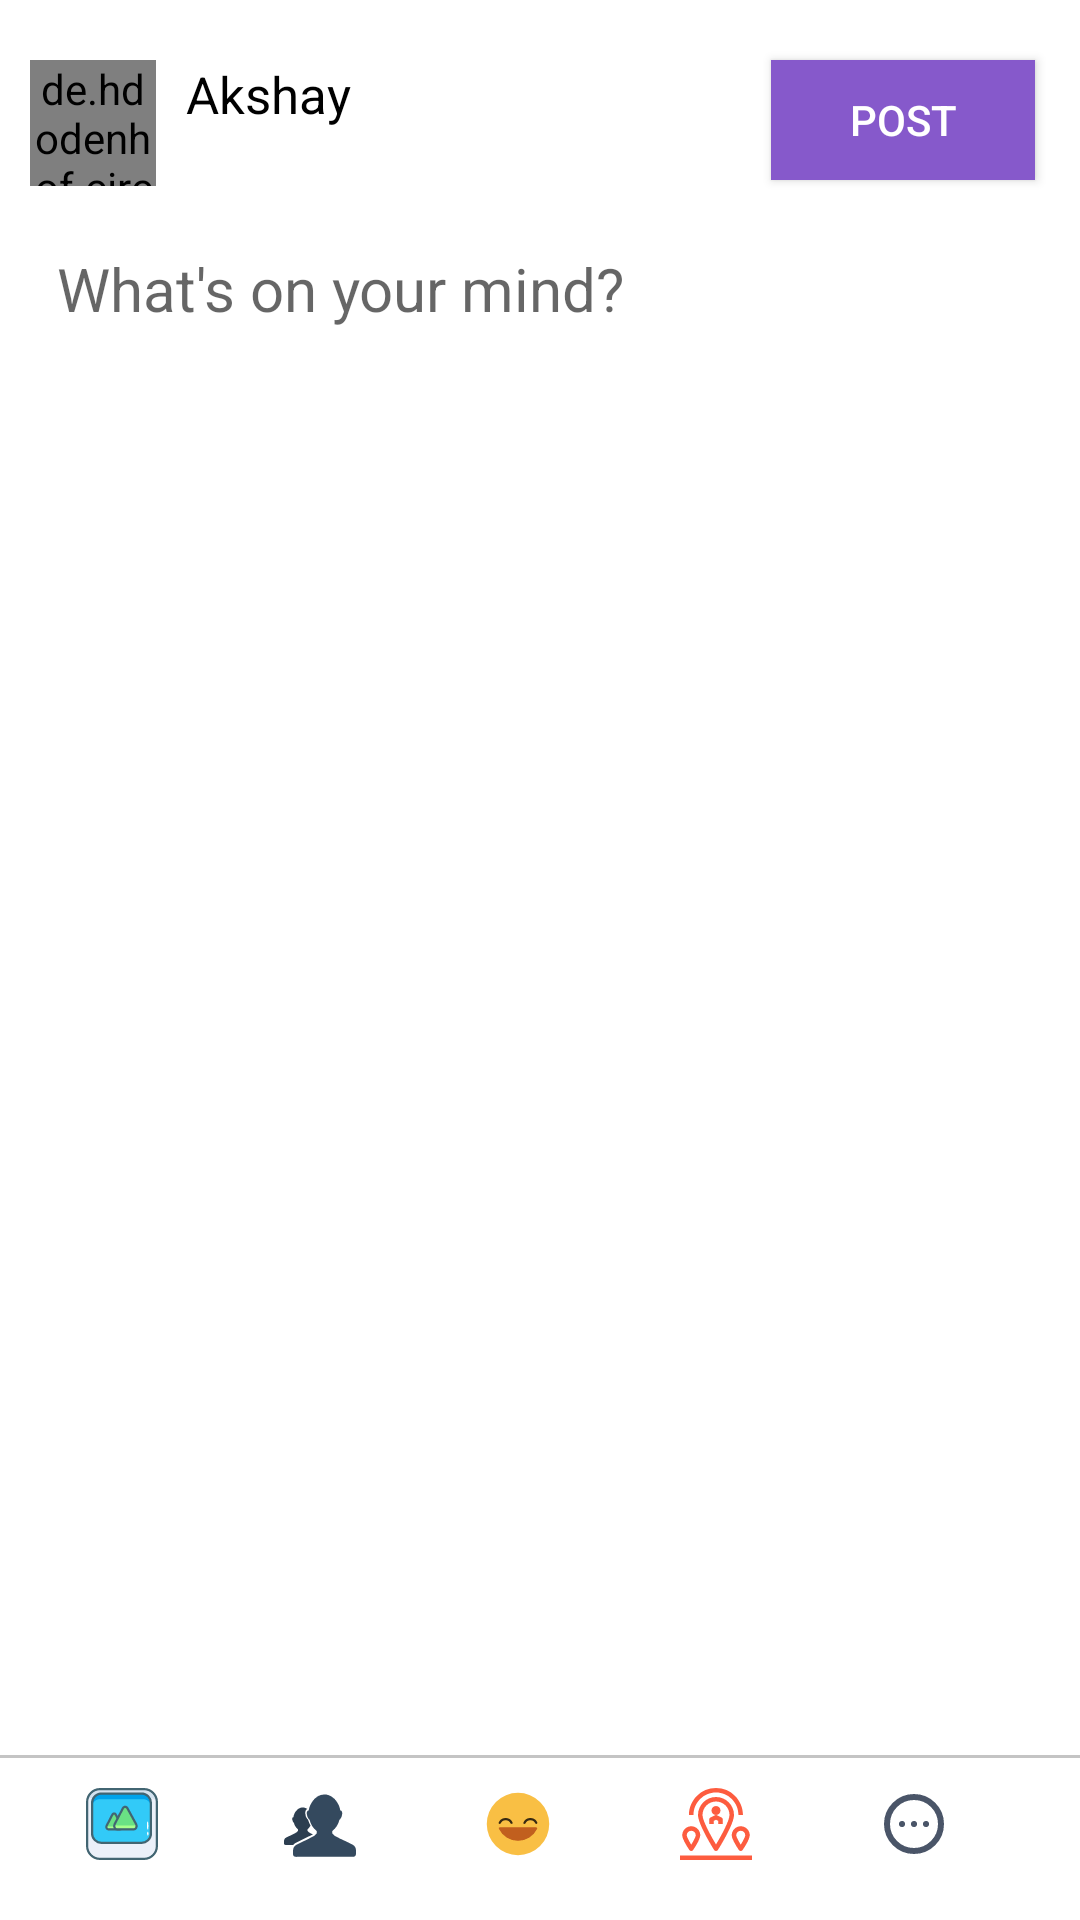

Where to tap for icons on this 1080px×1920px app screen, as [x,y]:
iconfinder circle dots horizontal: [914,1824]
iconfinder photo picture: [122,1824]
iconfinder profile group: [320,1825]
